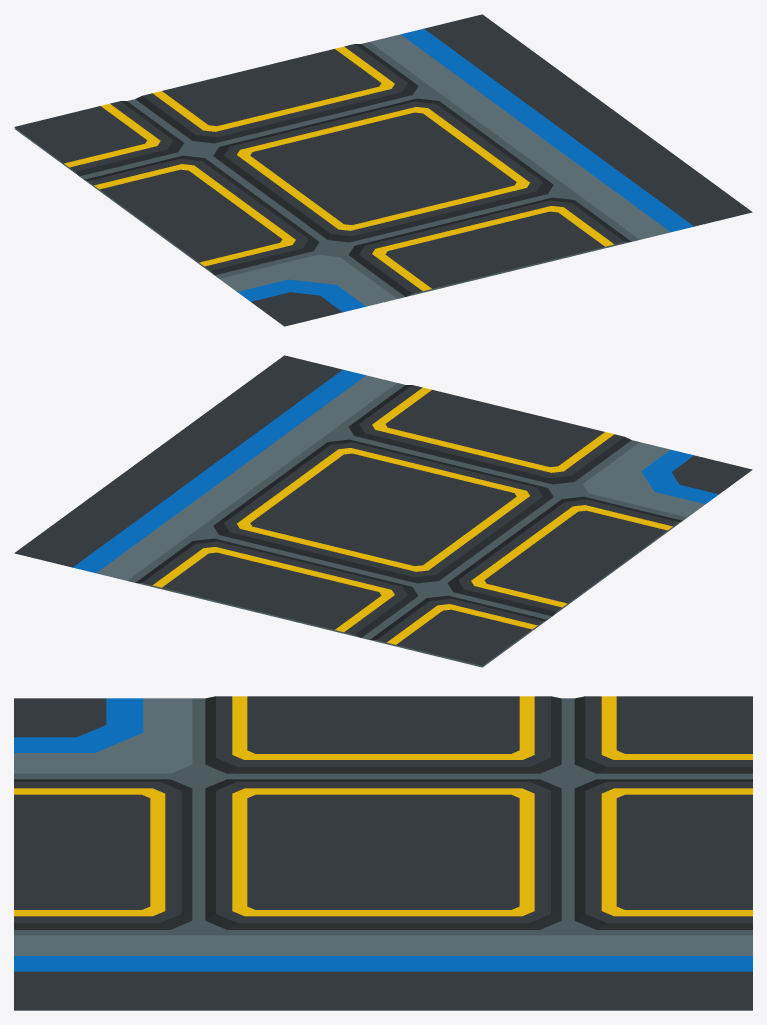
Rendered from Floor_type_C_037.glb.
The picture shows the model from 3 angles, top to bottom: view 1: azimuth 30°, elevation 25°; view 2: azimuth 150°, elevation 25°; view 3: azimuth 270°, elevation 25°; orthographic projection. The views are drawn at different scales.
Parts seen in each view (by area): view 1: Floor_type_C_037; view 2: Floor_type_C_037; view 3: Floor_type_C_037.
Boxes of the visible parts, box(x1,y1,x2,y2) form: Floor_type_C_037: box(14, 14, 752, 326); Floor_type_C_037: box(14, 355, 752, 667); Floor_type_C_037: box(14, 696, 752, 1010).
Size of the model in its own units: 4 by 0.0134 by 4.
Materials: 2 (2 with a texture image).
